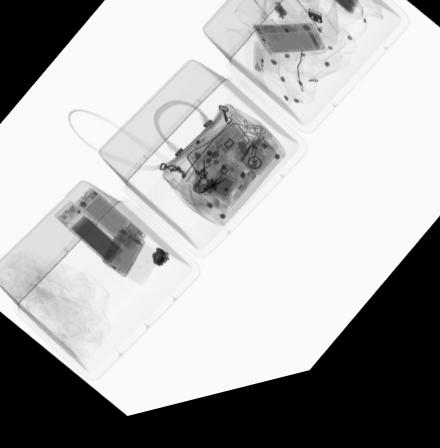Lighter: (254, 54, 266, 86)
